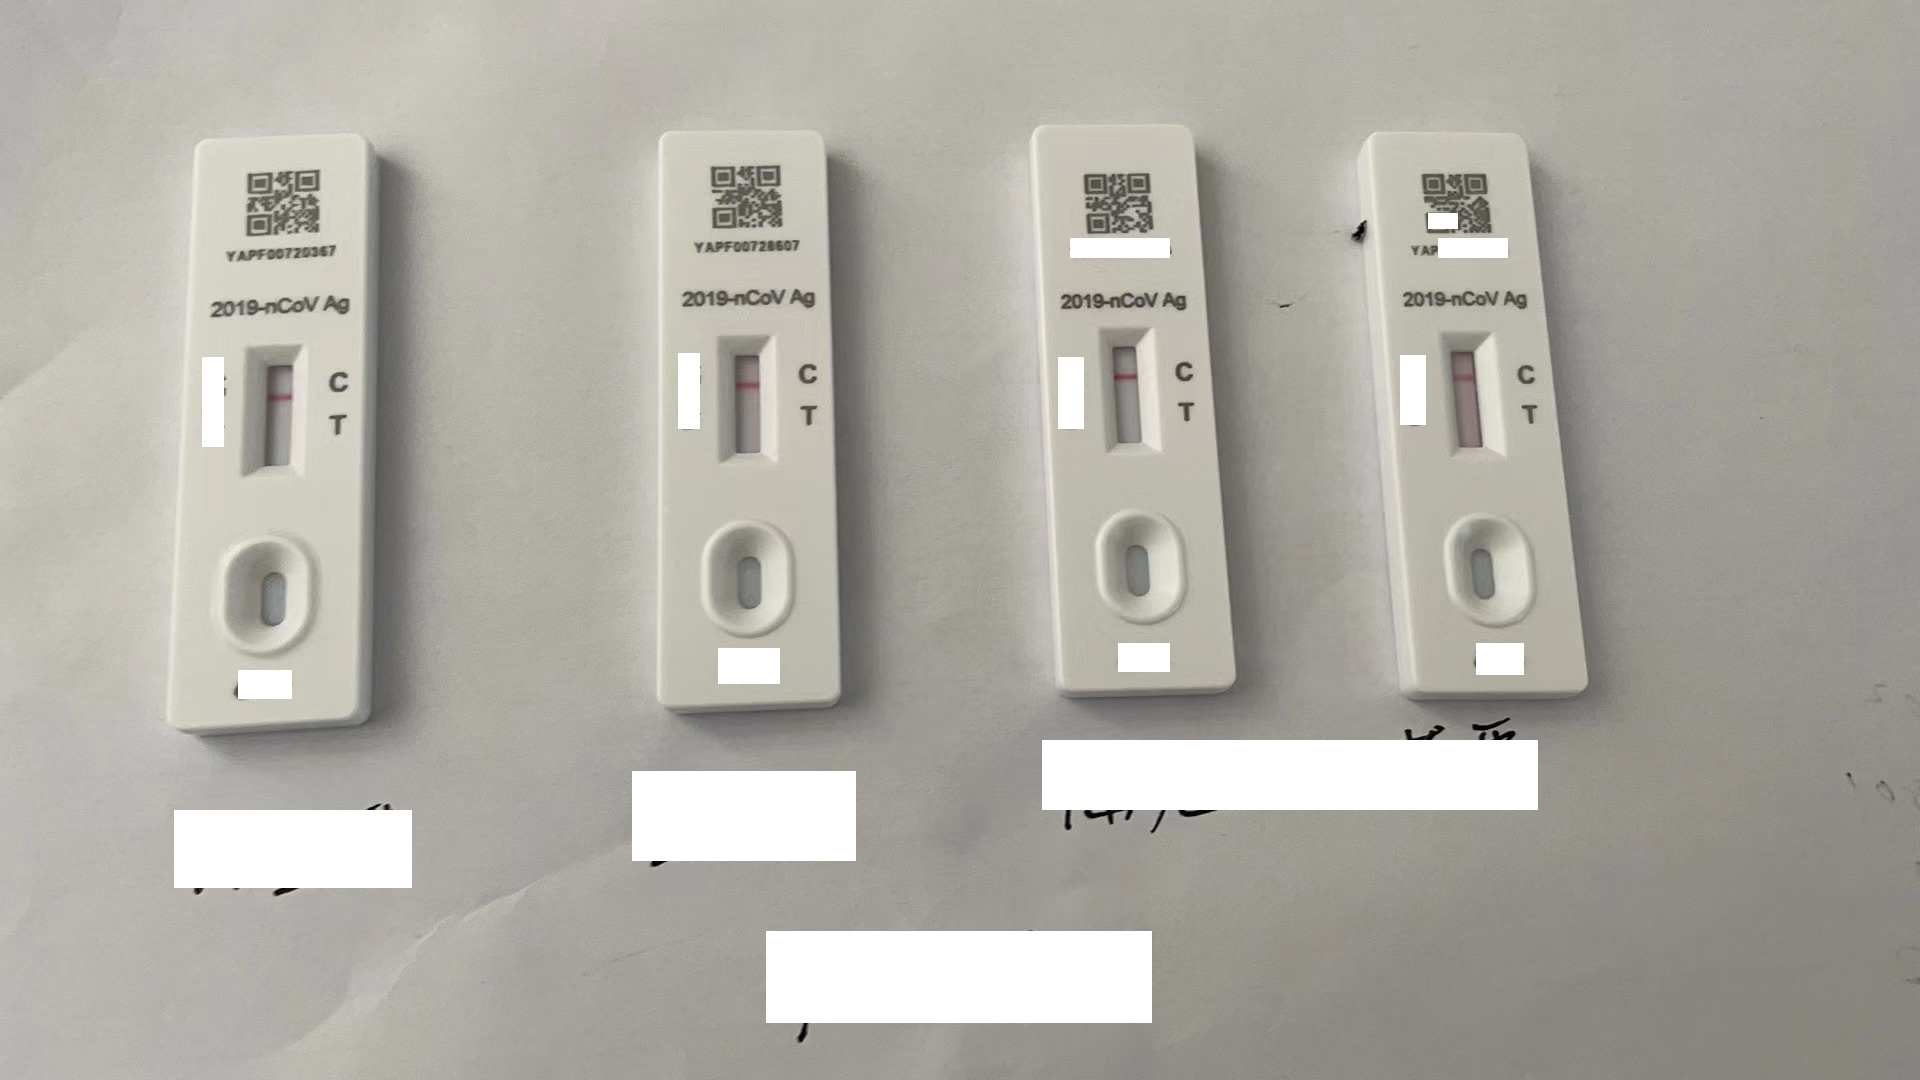negative: (241, 343, 302, 479), (717, 330, 774, 469), (1439, 328, 1499, 458), (1100, 324, 1156, 454)
